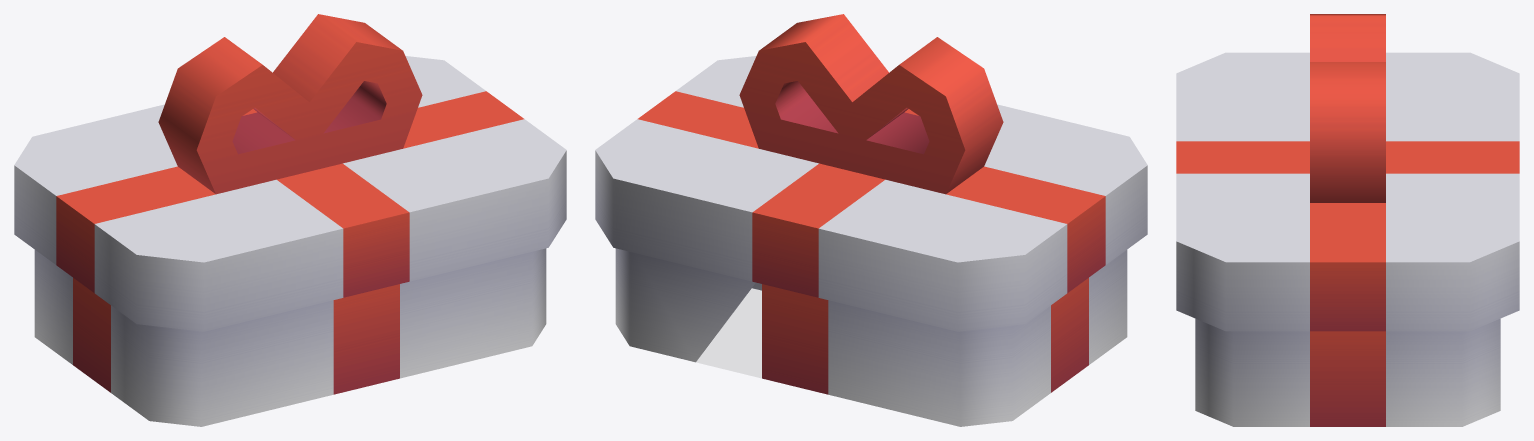
Rendered from cc0-present-rectangle-lod0.glb.
The picture shows the model from 3 angles, left to right: view 1: azimuth 30°, elevation 25°; view 2: azimuth 150°, elevation 25°; view 3: azimuth 270°, elevation 25°; orthographic projection.
Visible parts, largest first — view 1: part_0; view 2: part_0; view 3: part_0.
Part boxes in pixels (bbox=[...]): part_0: bbox=[14, 14, 566, 426]; part_0: bbox=[595, 14, 1147, 426]; part_0: bbox=[1176, 14, 1519, 426].
Size of the model in its own units: 0.65 by 0.4207 by 0.45.
Materials: 1 (1 with a texture image).
